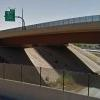Bridge: (2, 12, 97, 51)
